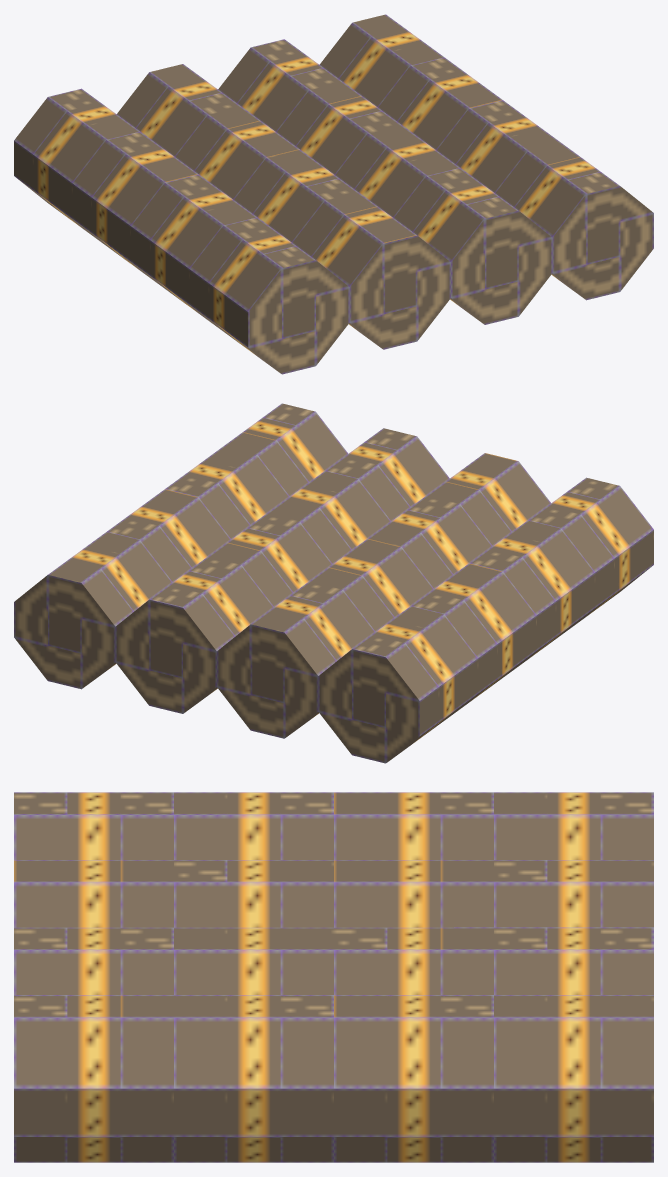
Rendered from Lane_FBX.fbx.
3 views of the same model, one above another, from view 1: azimuth 30°, elevation 25°; view 2: azimuth 150°, elevation 25°; view 3: azimuth 270°, elevation 25° (orthographic). The views are drawn at different scales.
Parts seen in each view (by area): view 1: Lane; view 2: Lane; view 3: Lane.
Boxes of the visible parts, x1,y1,x2,y2 form: Lane: (14,14,653,374); Lane: (14,403,653,763); Lane: (14,792,653,1162).
Size of the model in its own units: 600 by 150 by 600.
